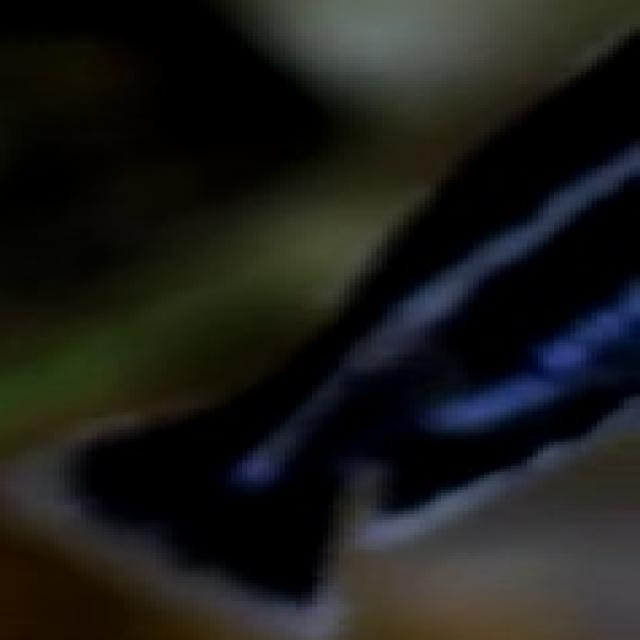fish: (0, 0, 635, 637)
